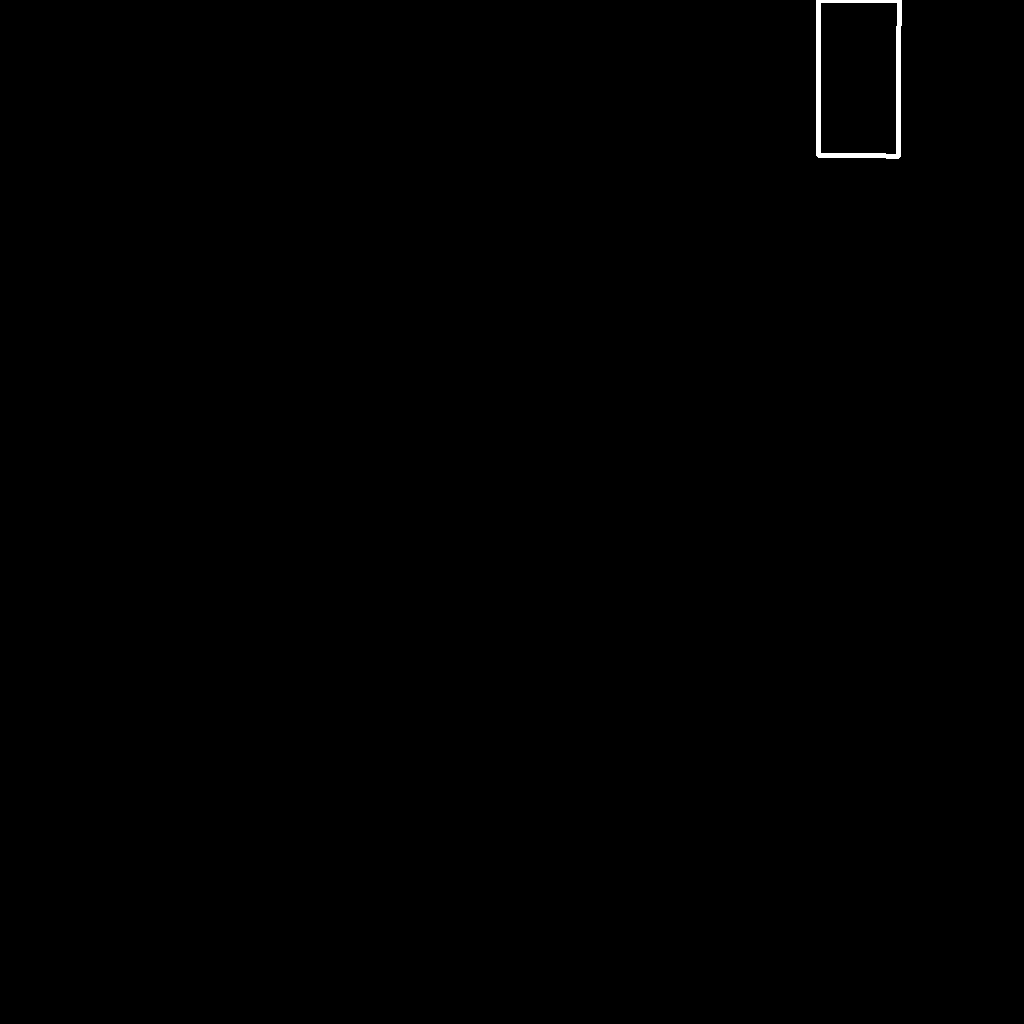building: (818, 0, 900, 157)
